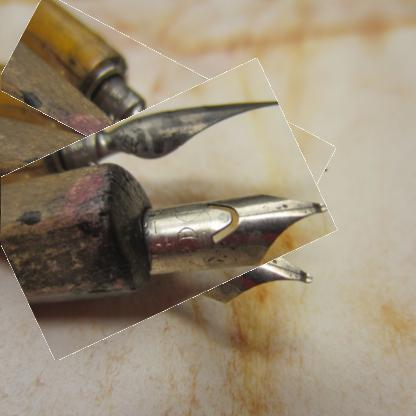Pen: (1, 86, 325, 334), (1, 27, 333, 206)
